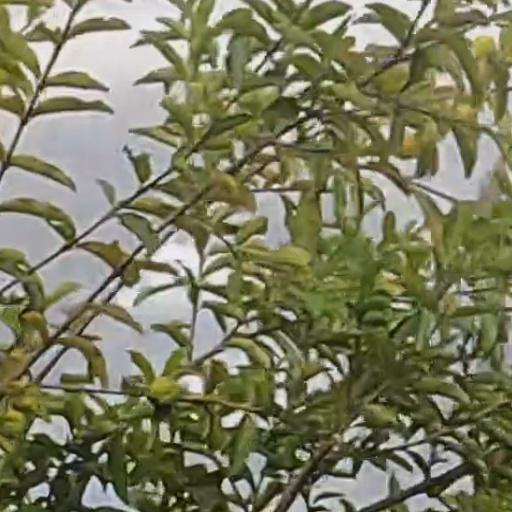acerola_verde: (150, 378, 180, 404)
